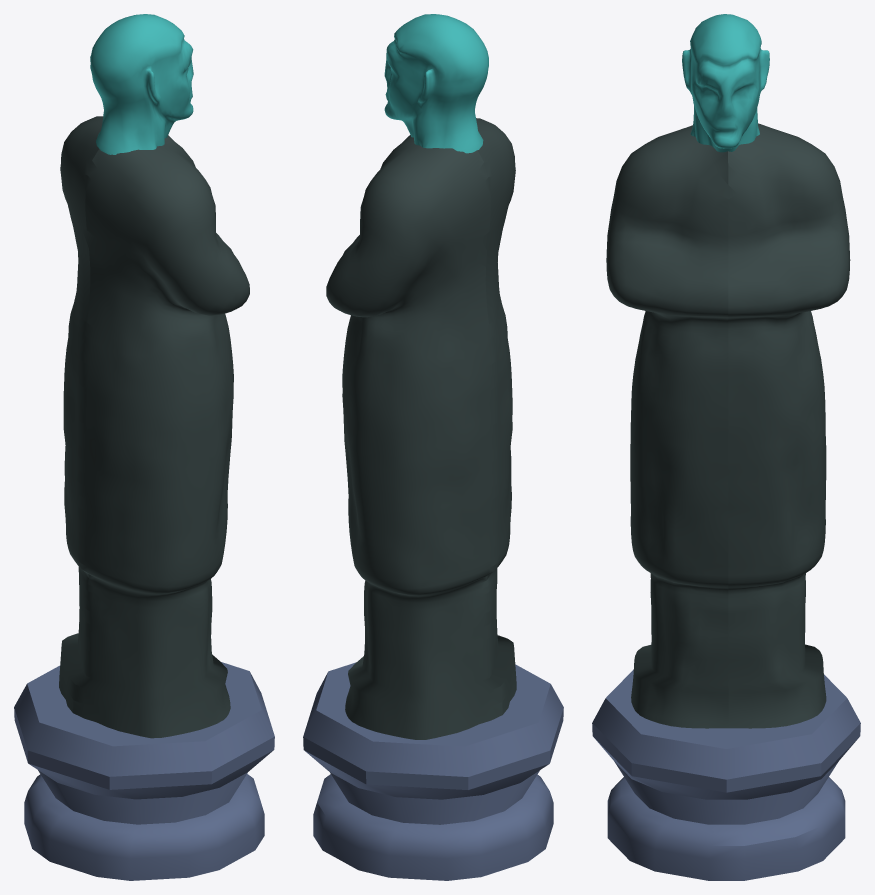
The model's file is Estatua completa.fbx.
The picture shows the model from 3 angles, left to right: view 1: azimuth 30°, elevation 25°; view 2: azimuth 150°, elevation 25°; view 3: azimuth 270°, elevation 25°; orthographic projection.
Parts seen in each view (by area): view 1: polySurface1, polySurface2, mesh; view 2: polySurface1, polySurface2, mesh; view 3: polySurface1, polySurface2, mesh.
Boxes of the visible parts, x1=… form: polySurface1: x1=59, y1=116, x2=249, y2=738; polySurface2: x1=14, y1=662, x2=274, y2=880; mesh: x1=90, y1=14, x2=193, y2=154; polySurface1: x1=326, y1=118, x2=516, y2=739; polySurface2: x1=303, y1=662, x2=563, y2=880; mesh: x1=384, y1=14, x2=488, y2=153; polySurface1: x1=606, y1=123, x2=850, y2=728; polySurface2: x1=592, y1=670, x2=860, y2=880; mesh: x1=682, y1=14, x2=769, y2=152.
Size of the model in its own units: 2.48 by 8.26 by 2.48.
